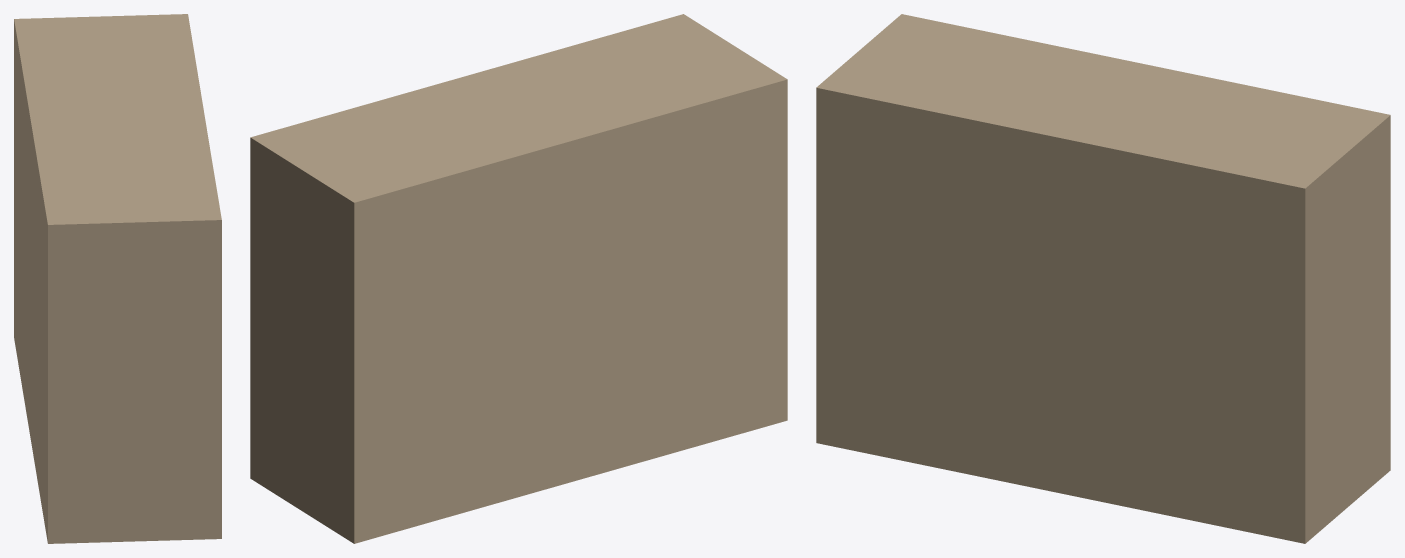
File: bld_99519910.dae
3 renders of one model, left to right at view 1: azimuth 30°, elevation 25°; view 2: azimuth 150°, elevation 25°; view 3: azimuth 270°, elevation 25°, orthographic. The views are drawn at different scales.
Visible parts, largest first — view 1: bld_99519910; view 2: bld_99519910; view 3: bld_99519910.
Part boxes in pixels (x1,y1,x2,y2): bld_99519910: [14, 14, 221, 543]; bld_99519910: [250, 14, 787, 543]; bld_99519910: [816, 14, 1390, 543].
Bounding box in the file's own units: 8.43 × 11.72 × 8.
